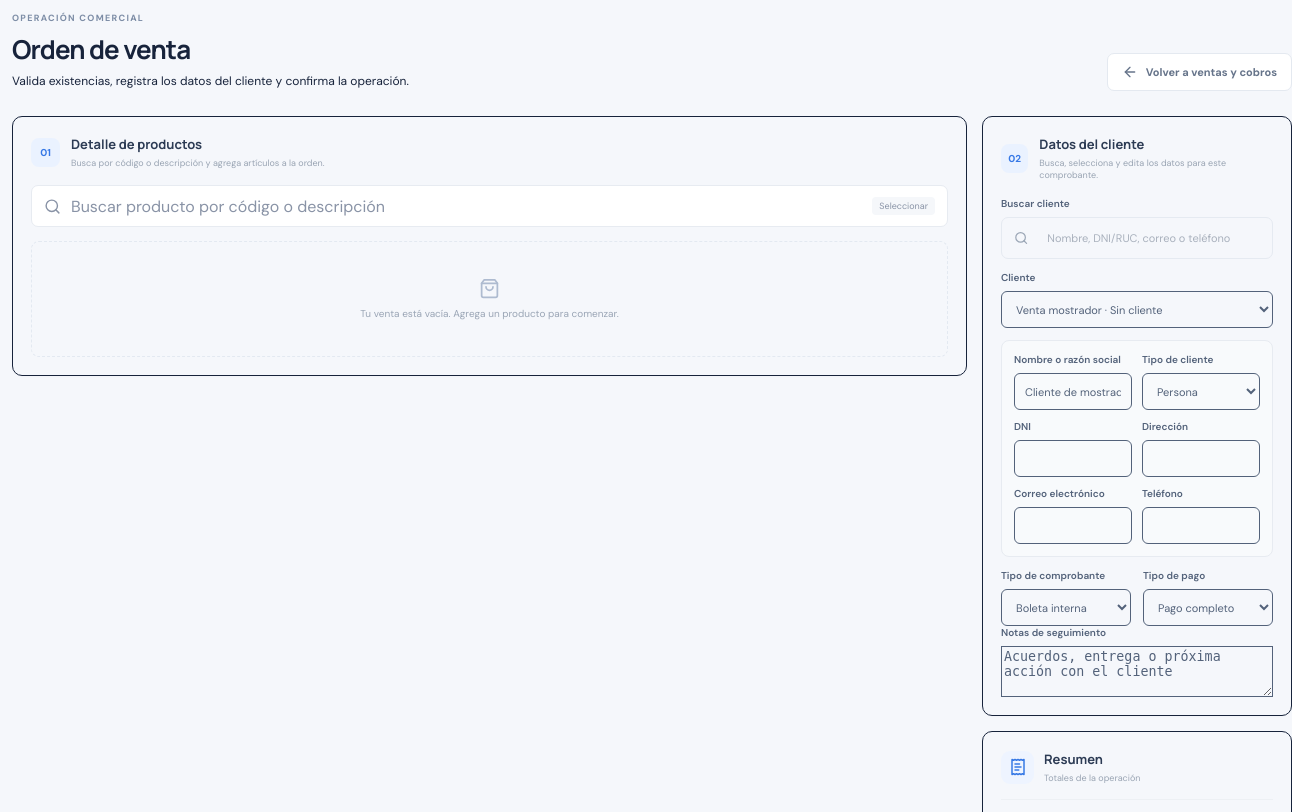
Test: NewSalePage › carga los datos del cliente en el formulario editable sin guardar sus cambios
Select "María Fernández · DNI 45892316" in the dropdown labelled "Cliente" at (1137, 310), box [1001,291,1273,328]
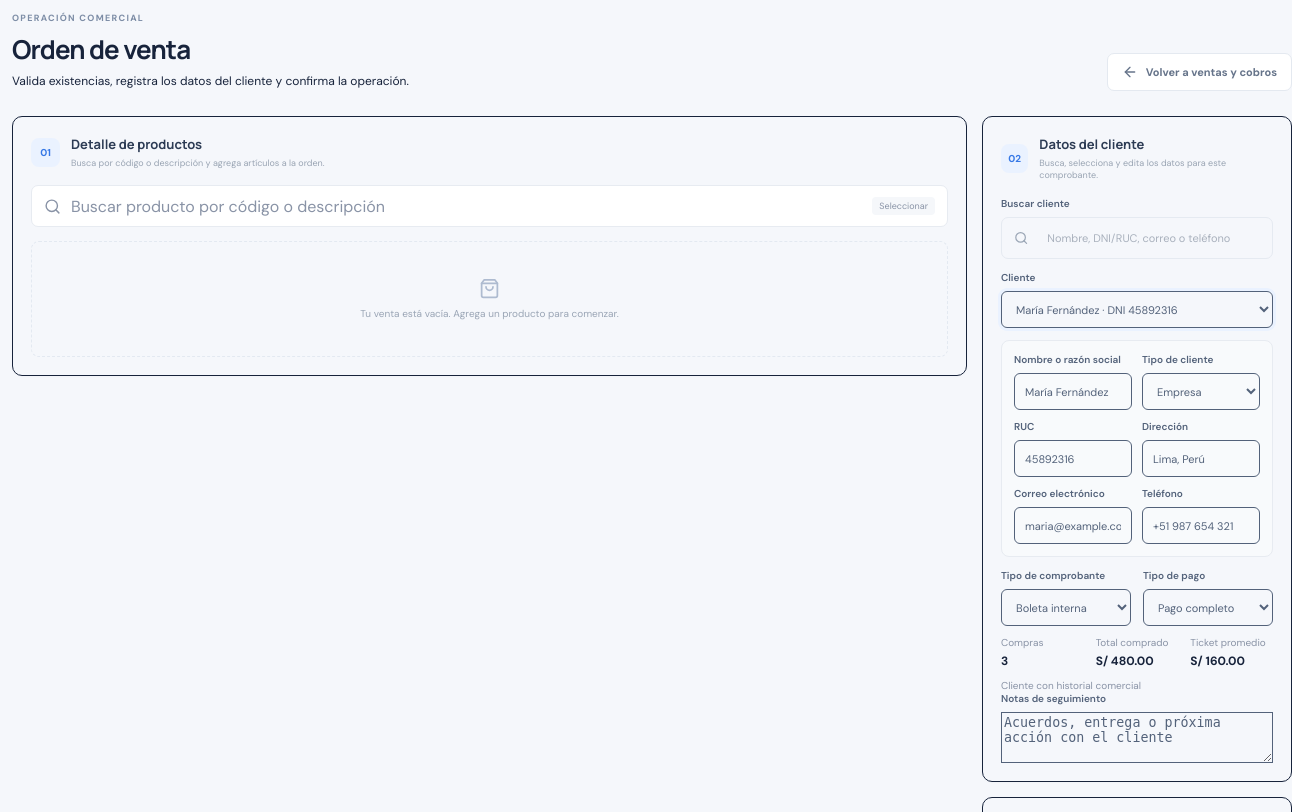
Expected: the text "Total comprado" is shown, [1096,636,1178,649]
Expected: the text "Ticket promedio" is shown, [1190,636,1273,649]
Expected: the field labelled "Nombre o razón social" holds "María Fernández", [1014,373,1132,410]
